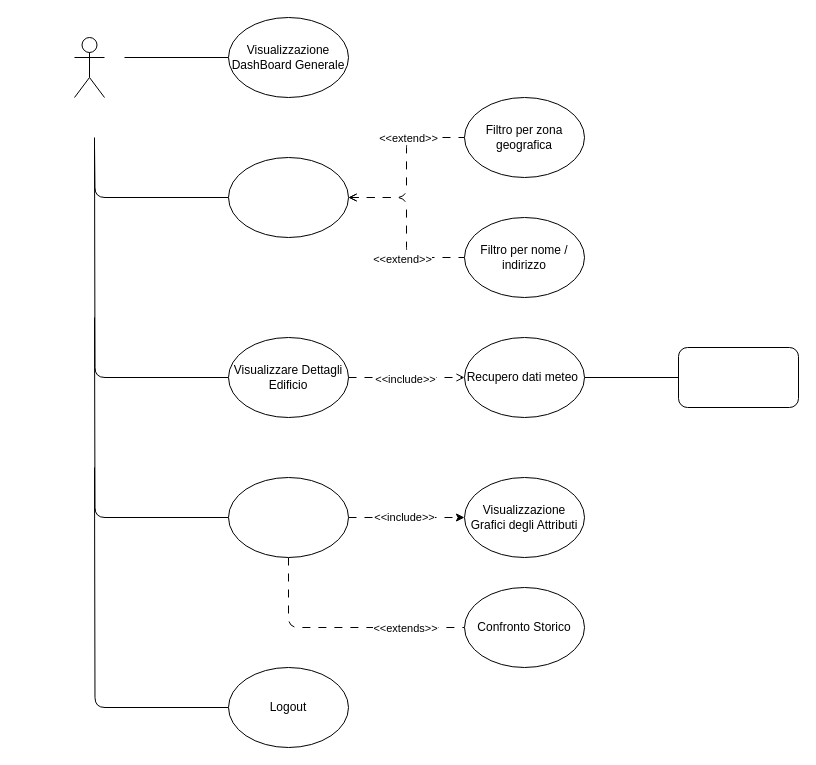
The diagram is 816 pixels wide and 765 high, and some of its shapes have lost their labels. The shapes that lost their labels are listed below. From the top down, each one's box as (x1, y1, x2, y2) in pixels, then its label:
(74, 36, 104, 98): Amministratore / Operatore
(228, 156, 348, 238): Visualizzazione DashBoard di Ricerca Edifici
(678, 346, 798, 408): Meteo API
(228, 476, 348, 558): Visualizzare Storico Dati
